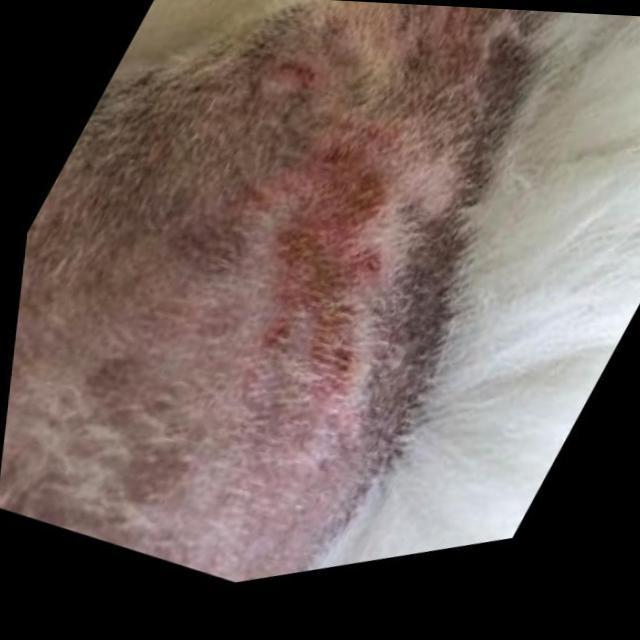fungal infection: (250, 134, 393, 382), (388, 0, 497, 91), (266, 53, 318, 98)
